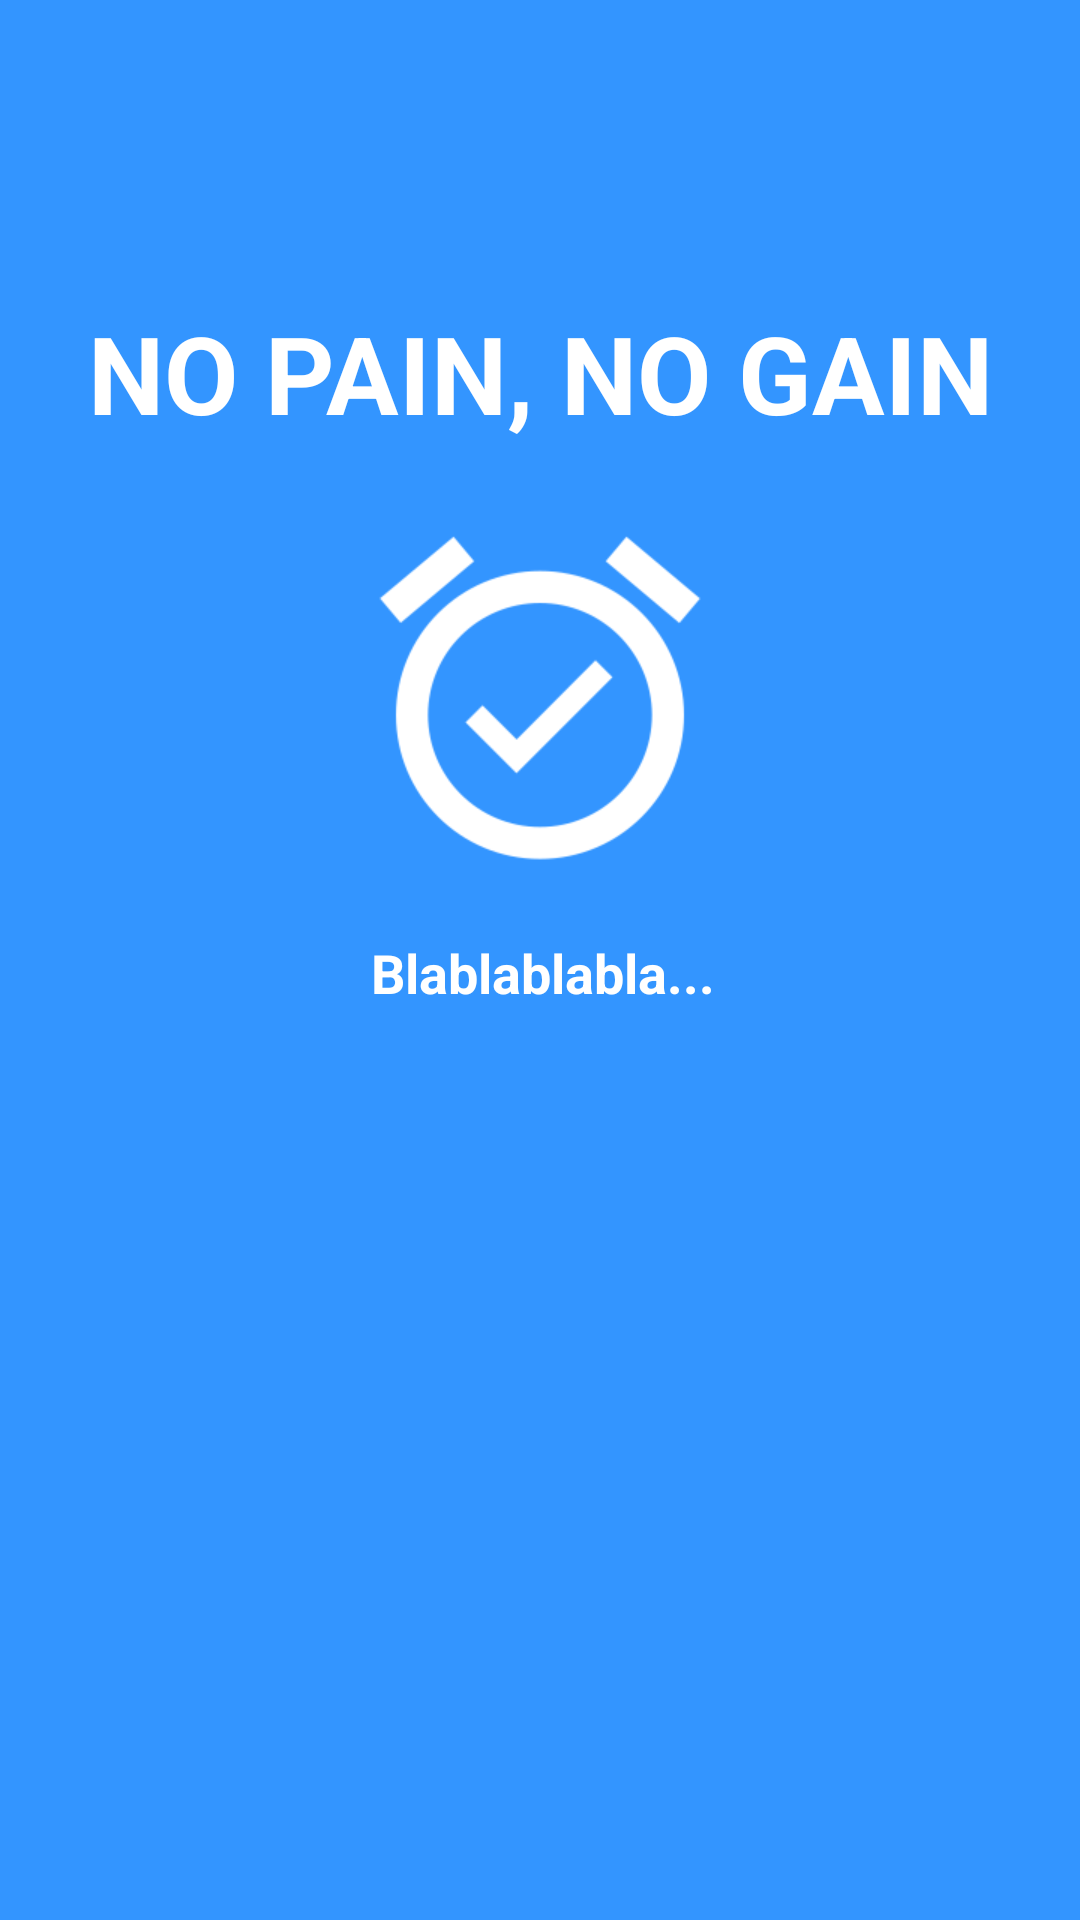

Where to tap for icons on this 1080×1920 app screen, as (x=x, y=y):
alarmcheck: (x=540, y=698)
